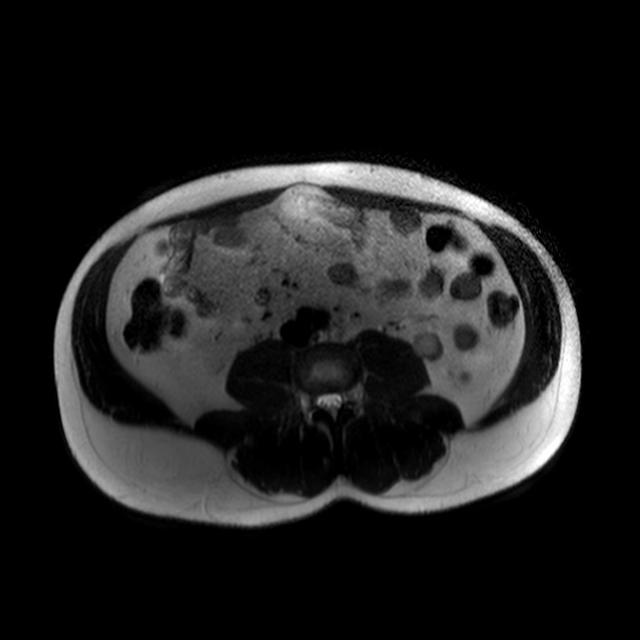sol: (415, 332, 445, 360), (452, 323, 476, 349), (458, 369, 471, 380)
